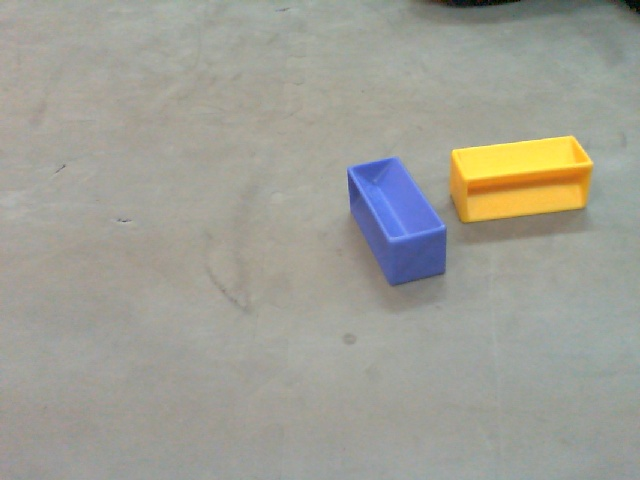BlueSample: (346, 154, 450, 293)
YellowSample: (449, 135, 596, 224)
